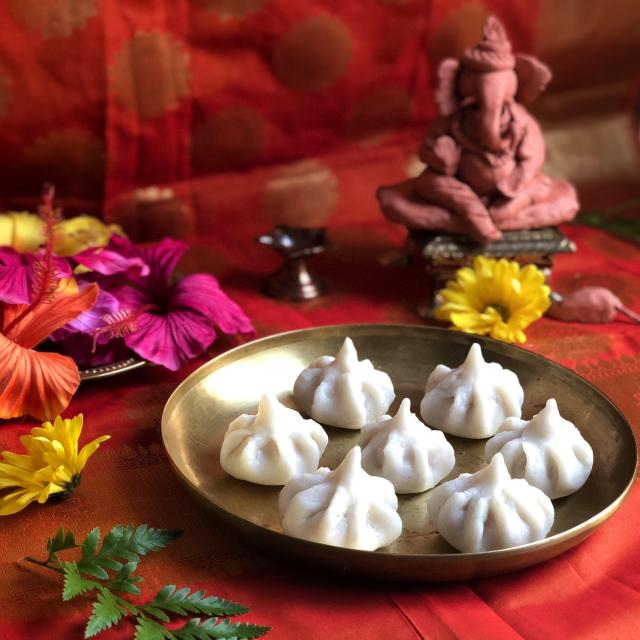modak: (257, 362, 568, 529)
